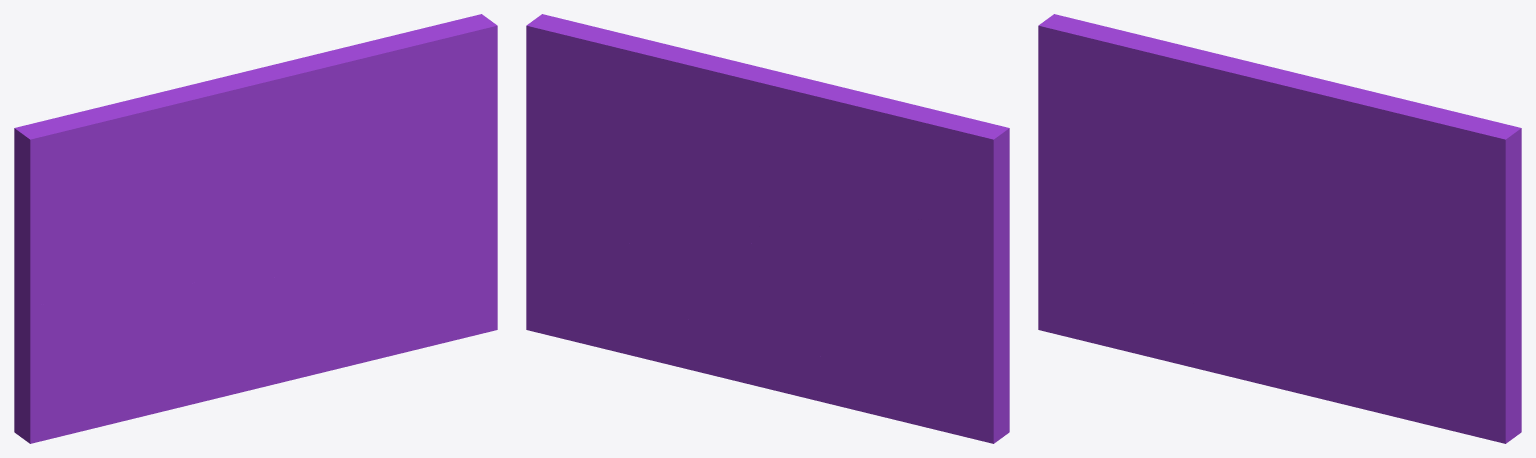
File: Barrier_68_chunks.fbx
3 renders of one model, left to right at view 1: azimuth 30°, elevation 25°; view 2: azimuth 150°, elevation 25°; view 3: azimuth 330°, elevation 25°, orthographic.
Visible parts, largest first — view 1: Barrier_68_1, Barrier_68_2, Barrier_68_0, Barrier_68_5, Barrier_68_4, Barrier_68_6, Barrier_68_3; view 2: Barrier_68_2, Barrier_68_0, Barrier_68_1, Barrier_68_5, Barrier_68_3, Barrier_68_4, Barrier_68_6; view 3: Barrier_68_2, Barrier_68_1, Barrier_68_0, Barrier_68_5, Barrier_68_4, Barrier_68_6, Barrier_68_3.
Part boxes in pixels (x1,y1,x2,y2): Barrier_68_1: (14,79,273,306); Barrier_68_2: (216,14,497,234); Barrier_68_0: (14,219,223,443); Barrier_68_5: (140,261,323,416); Barrier_68_4: (300,274,497,377); Barrier_68_6: (242,229,392,301); Barrier_68_3: (364,232,497,277); Barrier_68_2: (526,14,791,245); Barrier_68_0: (750,199,1009,443); Barrier_68_1: (776,74,1009,293); Barrier_68_5: (687,249,852,409); Barrier_68_3: (526,242,701,315); Barrier_68_4: (526,312,704,373); Barrier_68_6: (680,240,755,275); Barrier_68_2: (1256,63,1521,348); Barrier_68_1: (1038,14,1282,258); Barrier_68_0: (1038,192,1231,356); Barrier_68_5: (1148,250,1331,395); Barrier_68_4: (1308,326,1521,443); Barrier_68_6: (1250,234,1400,330); Barrier_68_3: (1372,295,1521,414).
Bounding box in the file's own units: 462 × 288 × 27.2.
